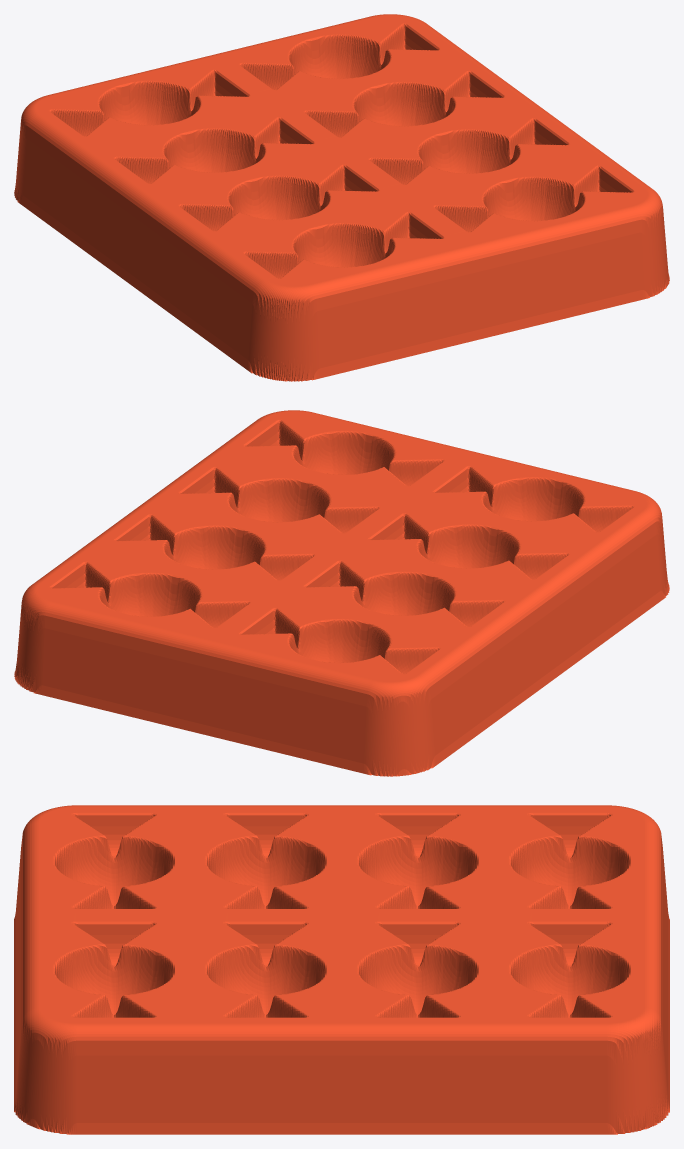
File: mold.glb
3 renders of one model, top to bottom at view 1: azimuth 30°, elevation 25°; view 2: azimuth 150°, elevation 25°; view 3: azimuth 270°, elevation 25°, orthographic. The views are drawn at different scales.
Visible parts, largest first — view 1: geometry_0; view 2: geometry_0; view 3: geometry_0.
Part boxes in pixels (x1,y1,x2,y2): geometry_0: (14,14,669,381); geometry_0: (14,410,669,776); geometry_0: (14,805,669,1134).
Bounding box in the file's own units: 0.0809 × 0.0159 × 0.0943.
